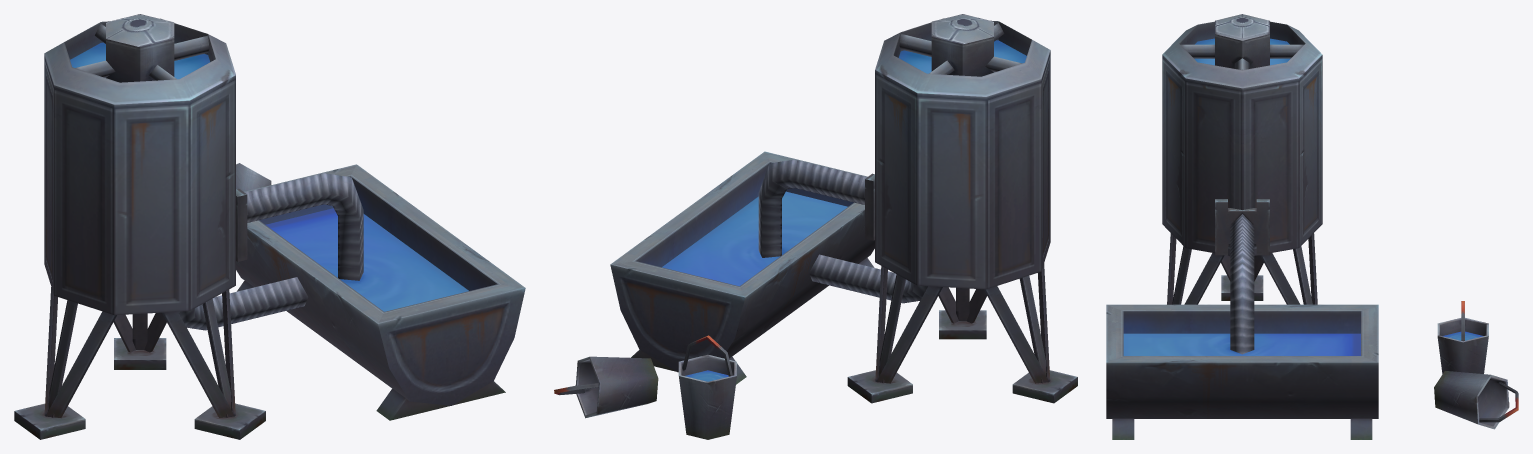
Rendered from scene_shenmisenlin_ssc01.FBX.
3 views of the same model, side by side, from view 1: azimuth 30°, elevation 25°; view 2: azimuth 150°, elevation 25°; view 3: azimuth 270°, elevation 25° (orthographic). The views are drawn at different scales.
Parts seen in each view (by area): view 1: scene_shenmisenlin_ssc01; view 2: scene_shenmisenlin_ssc01; view 3: scene_shenmisenlin_ssc01.
Boxes of the visible parts, x1=… form: scene_shenmisenlin_ssc01: x1=14, y1=14, x2=525, y2=439; scene_shenmisenlin_ssc01: x1=554, y1=14, x2=1077, y2=439; scene_shenmisenlin_ssc01: x1=1106, y1=14, x2=1518, y2=439.
Size of the model in its own units: 295 by 262 by 316.
